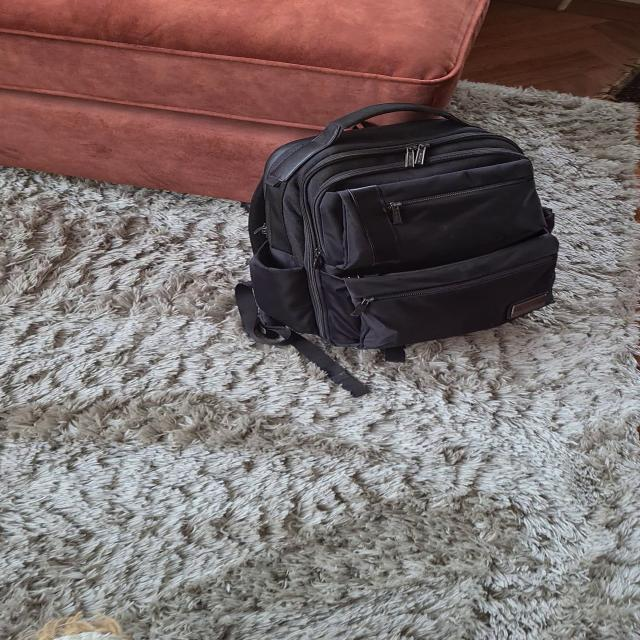backpack: (226, 96, 571, 361)
